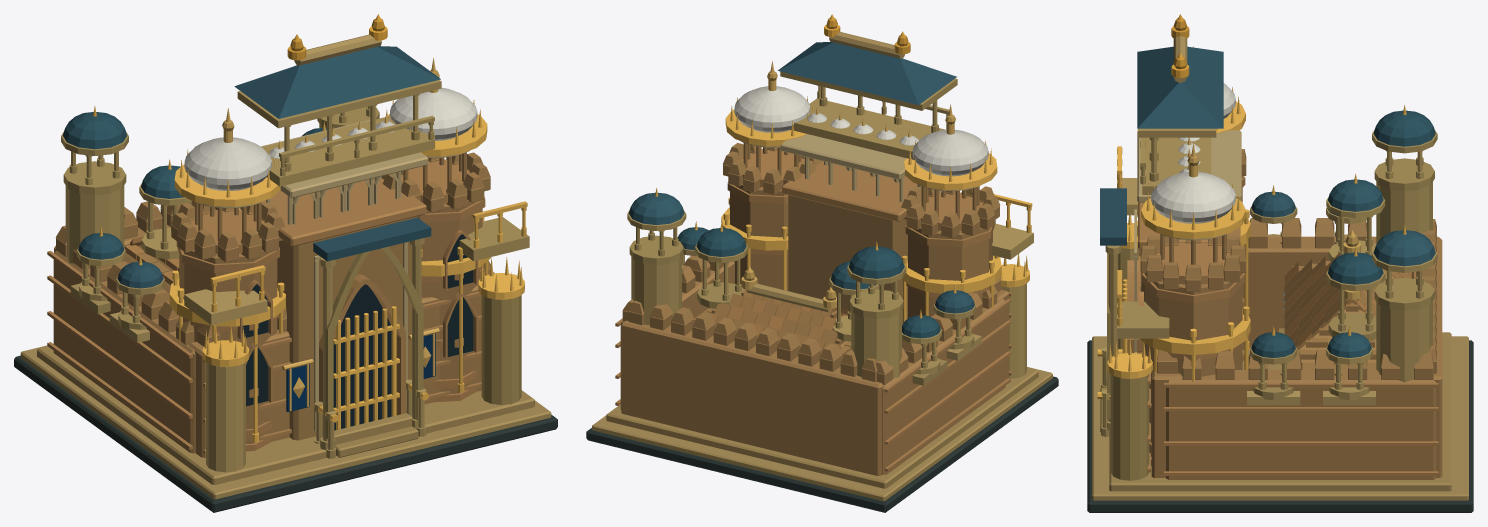
The picture shows the model from 3 angles, left to right: view 1: azimuth 30°, elevation 25°; view 2: azimuth 150°, elevation 25°; view 3: azimuth 270°, elevation 25°; orthographic projection. The views are drawn at different scales.
Parts seen in each view (by area): view 1: barracks_L13_0, barracks_L13_1; view 2: barracks_L13_0, barracks_L13_1; view 3: barracks_L13_0, barracks_L13_1.
Boxes of the visible parts, x1,y1,x2,y2 form: barracks_L13_0: (14, 18, 557, 512); barracks_L13_1: (93, 14, 527, 442); barracks_L13_0: (586, 18, 1058, 512); barracks_L13_1: (655, 14, 1032, 323); barracks_L13_0: (1087, 18, 1473, 512); barracks_L13_1: (1097, 14, 1406, 398).
Bounding box in the file's own units: 5.6 × 6.38 × 5.6.
